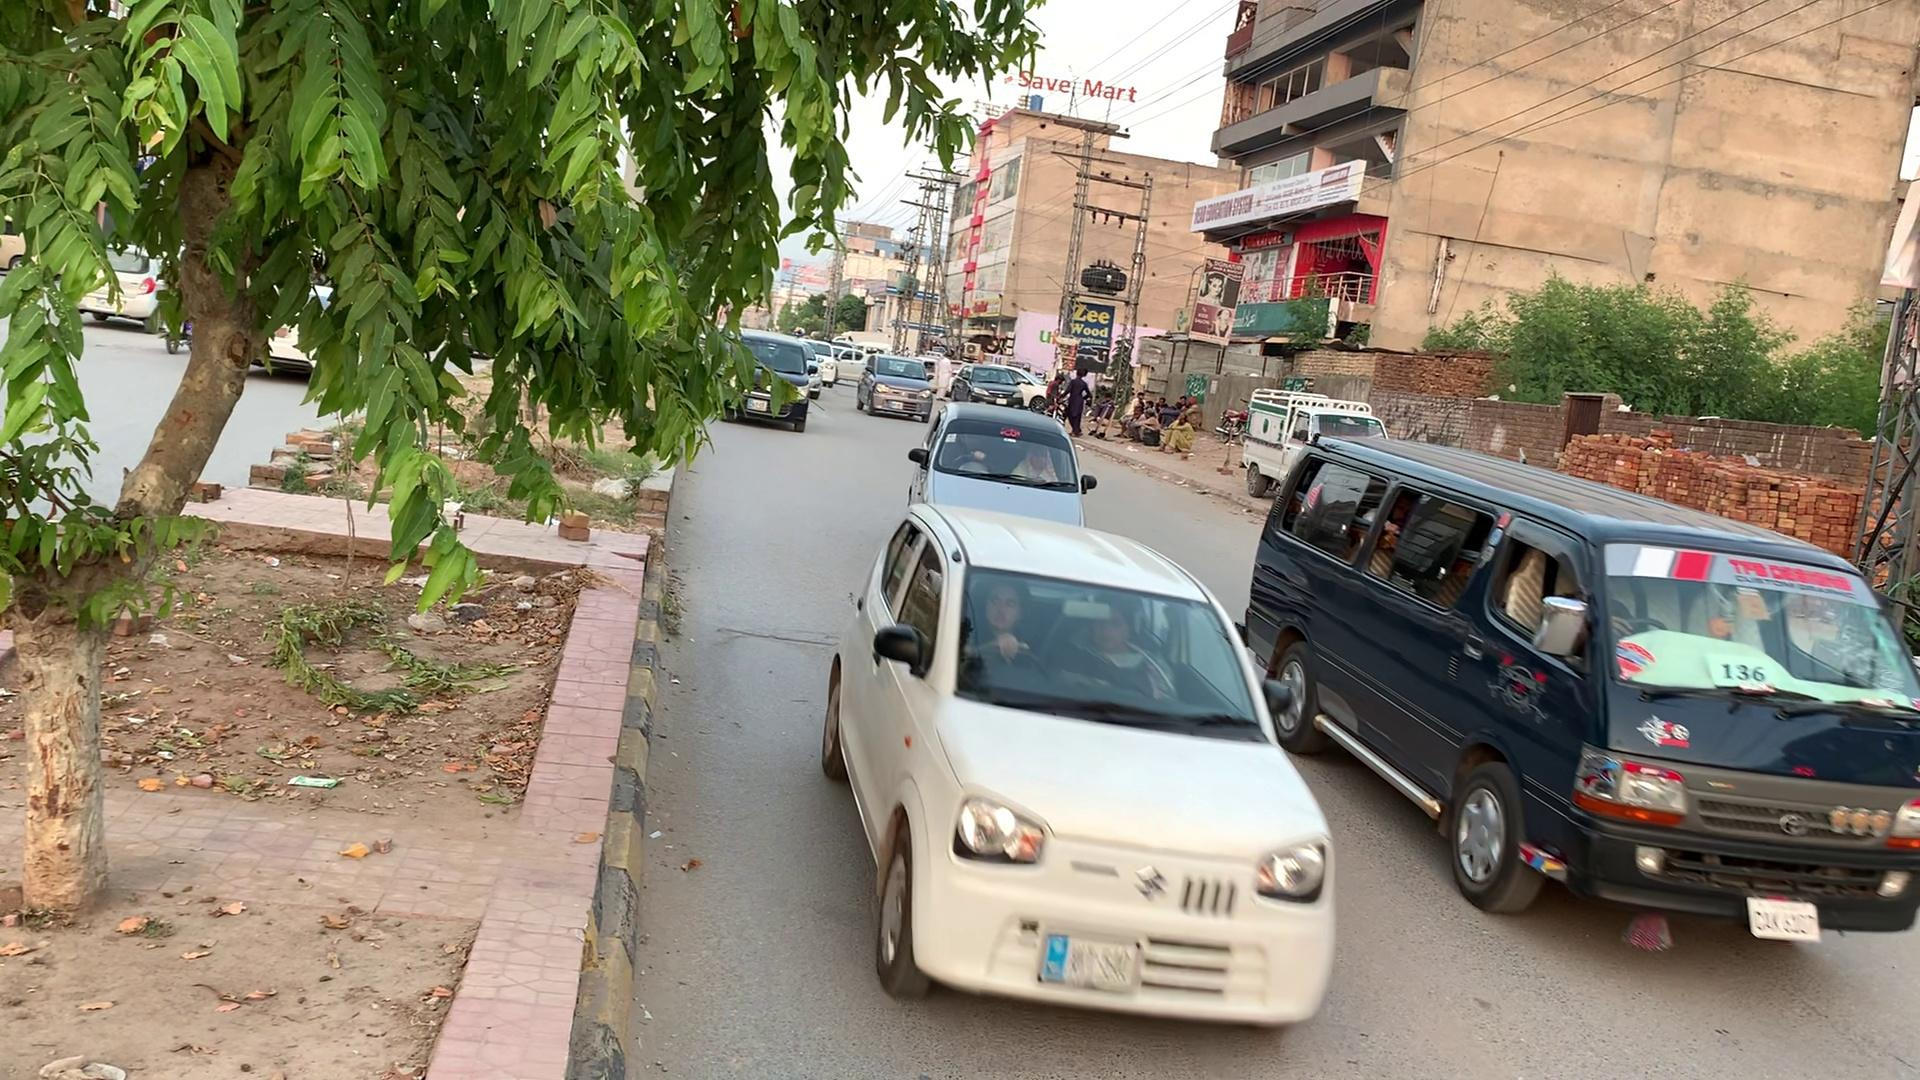windshield: (1584, 517, 1920, 740), (938, 550, 1274, 757)
